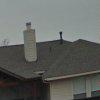Chimney: (16, 11, 43, 70)
